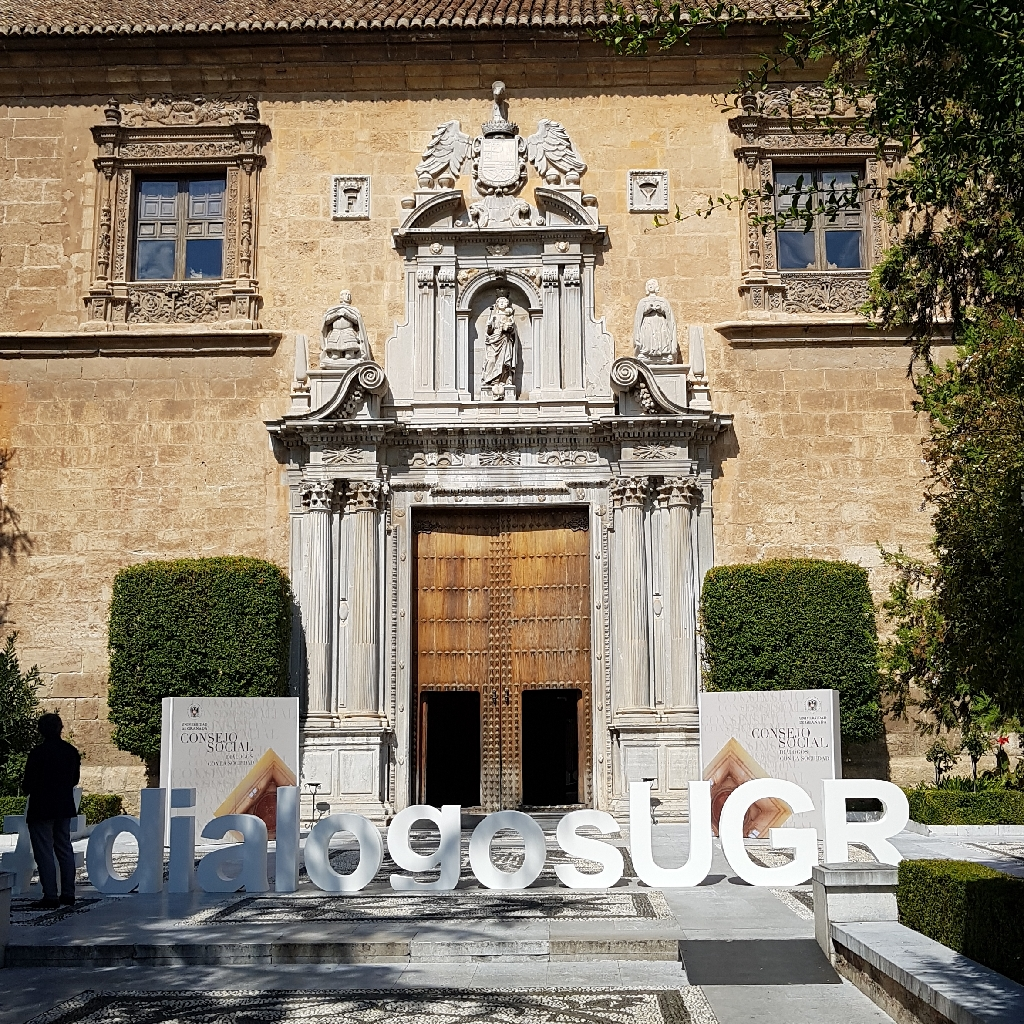arco-medio-punto: (464, 278, 538, 324)
fronton-partido: (277, 355, 717, 430), (397, 188, 600, 237)
vano-adintelado: (385, 478, 613, 813), (88, 153, 262, 291), (735, 144, 901, 279)
